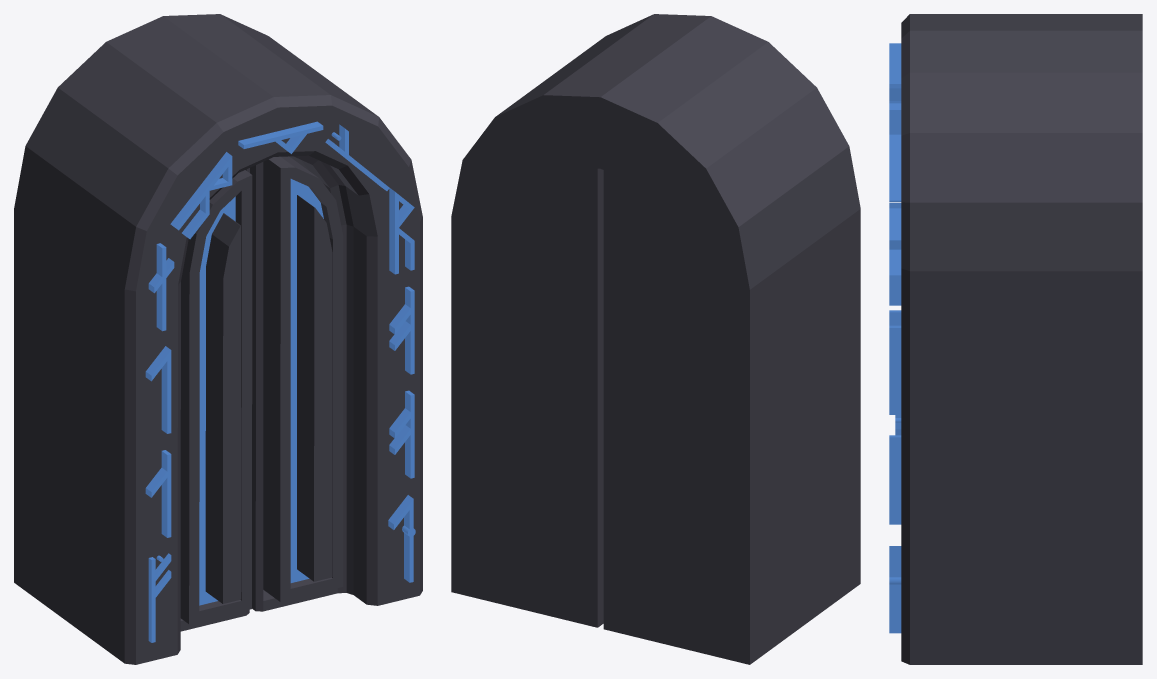
The model's file is waterdoor.glb.
The picture shows the model from 3 angles, left to right: view 1: azimuth 30°, elevation 25°; view 2: azimuth 150°, elevation 25°; view 3: azimuth 270°, elevation 25°; orthographic projection. The views are drawn at different scales.
Visible parts, largest first — view 1: Cube, T; view 2: Cube; view 3: Cube, T.
Boxes of the visible parts, x1,y1,x2,y2 form: Cube: (14,14,422,664); T: (145,121,415,642); Cube: (451,14,860,664); Cube: (901,14,1142,664); T: (889,43,901,633).
Size of the model in its own units: 3 by 5.1 by 2.1.
2 materials, 2 textured.
